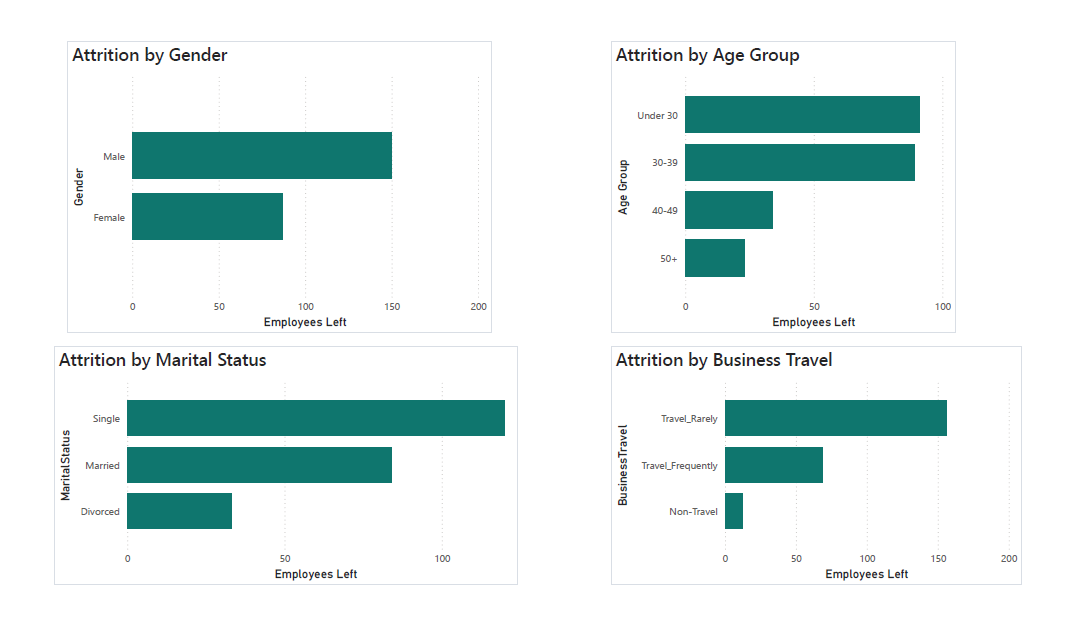

What the dashboard file says about the page in this screenshot:
{"tool":"powerbi","page":{"name":"Attrition Analysis","canvas":[1280,720],"ordinal":1},"visuals":[{"type":"clusteredBarChart","title":"Attrition by Gender","fields":{"Category":["WA_Fn-UseC_-HR-Employee-Attrition.Gender"],"Y":["WA_Fn-UseC_-HR-Employee-Attrition.Employees Left"]},"box":[64,32,512,352],"z":0},{"type":"clusteredBarChart","title":"Attrition by Age Group","fields":{"Y":["WA_Fn-UseC_-HR-Employee-Attrition.Employees Left"],"Category":["WA_Fn-UseC_-HR-Employee-Attrition.Age Group"]},"box":[720,32,416,352],"z":1000},{"type":"clusteredBarChart","title":"Attrition by Marital Status","fields":{"Y":["WA_Fn-UseC_-HR-Employee-Attrition.Employees Left"],"Category":["WA_Fn-UseC_-HR-Employee-Attrition.MaritalStatus"]},"box":[48,400,560,288],"z":2000},{"type":"clusteredBarChart","title":"Attrition by Business Travel","fields":{"Y":["WA_Fn-UseC_-HR-Employee-Attrition.Employees Left"],"Category":["WA_Fn-UseC_-HR-Employee-Attrition.BusinessTravel"]},"box":[720,400,496,288],"z":3000}]}

Visuals, with their boxes in screenshot pixels (x1, y1, x2, y2), scaled from the page's 1280x720 canvas onto the 1091x627 screenshot:
"Attrition by Gender" clusteredBarChart: 55,28,491,334
"Attrition by Age Group" clusteredBarChart: 614,28,968,334
"Attrition by Marital Status" clusteredBarChart: 41,348,518,599
"Attrition by Business Travel" clusteredBarChart: 614,348,1036,599
